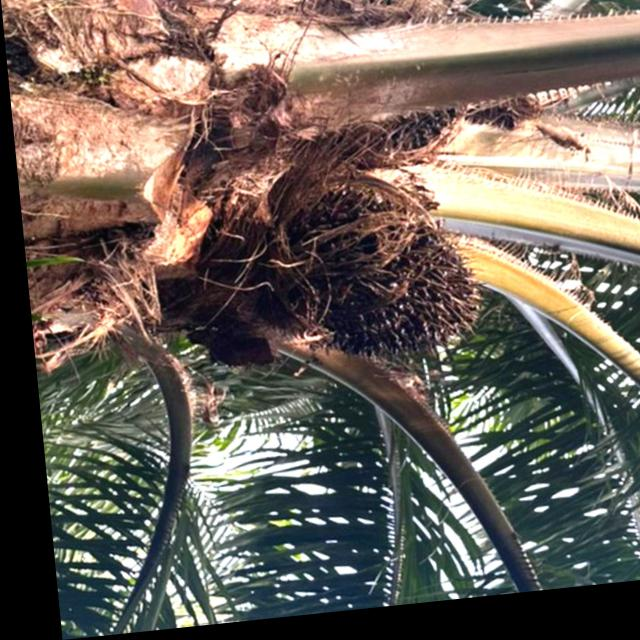almost: (264, 179, 483, 381)
